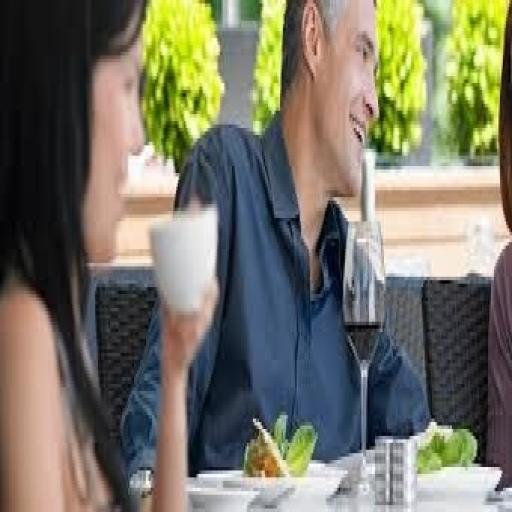drinking: (147, 200, 217, 314)
